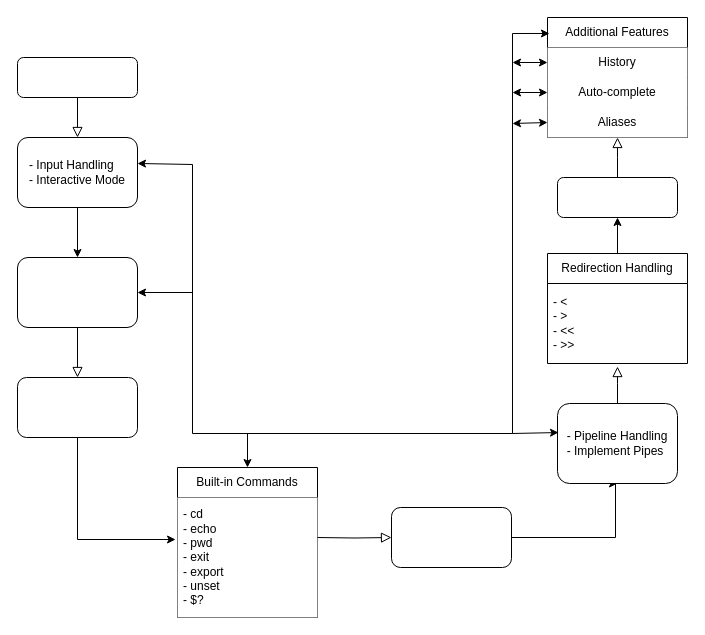
This 705x635 diagram has some shape labels left out. The shapes that lost their labels are listed below. From the top down, each one's centre as x and y in pixels, then its label:
(x=77, y=77): Input Handling
(x=617, y=197): Path Search
(x=77, y=292): - Command Parsing - Handle Quotes(', ")
(x=77, y=407): Environment Variable Handling
(x=451, y=537): Signal Handling
